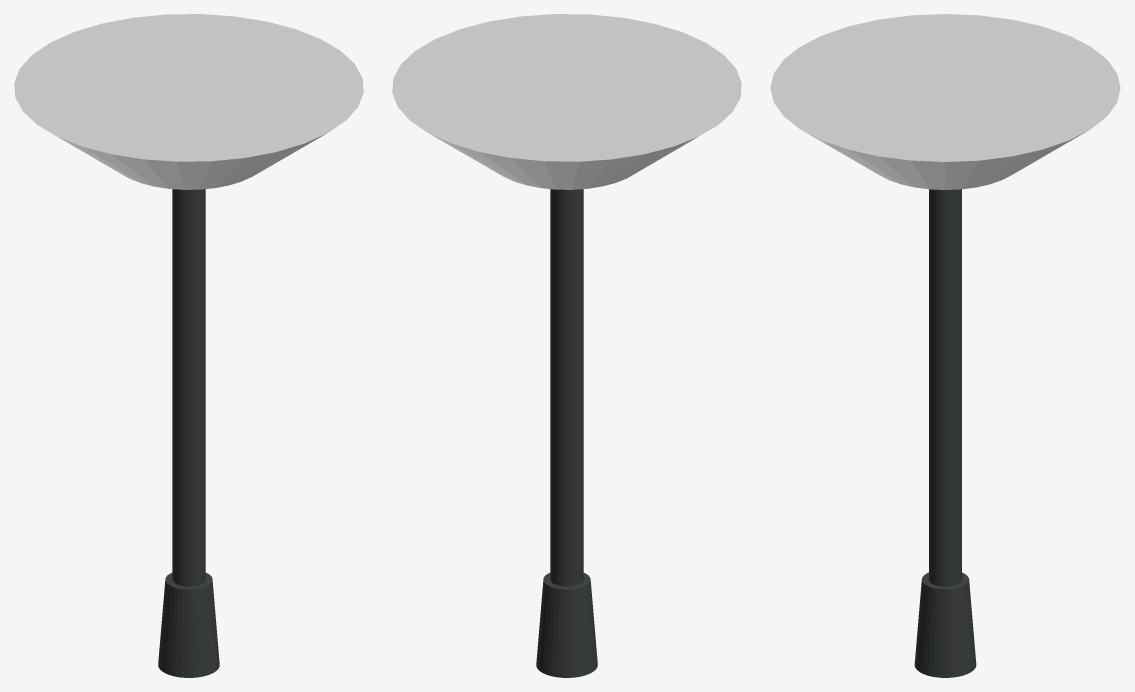
File: LampPost2.gltf
The picture shows the model from 3 angles, left to right: view 1: azimuth 30°, elevation 25°; view 2: azimuth 150°, elevation 25°; view 3: azimuth 270°, elevation 25°; orthographic projection.
Visible parts, largest first — view 1: Glass, Cylinder; view 2: Glass, Cylinder; view 3: Glass, Cylinder.
Boxes of the visible parts, box(x1,y1,x2,y2) form: Glass: box(14, 14, 363, 189); Cylinder: box(158, 189, 219, 677); Glass: box(392, 14, 741, 189); Cylinder: box(536, 189, 597, 677); Glass: box(770, 14, 1120, 189); Cylinder: box(914, 189, 976, 677).
Bounding box in the file's own units: 7.94 × 14.43 × 7.94.
Materials: 2 (1 with a texture image).
